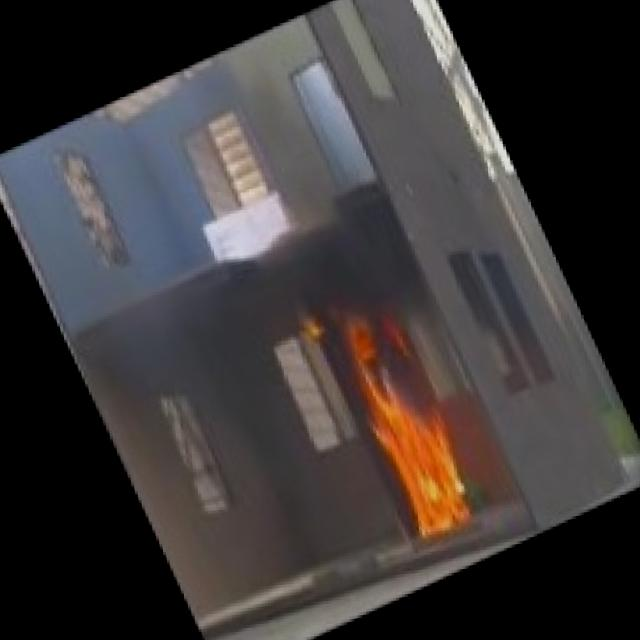fire: (302, 286, 518, 565)
